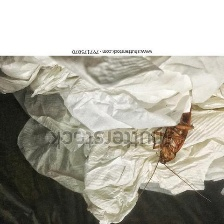tissue: (0, 56, 224, 224)
